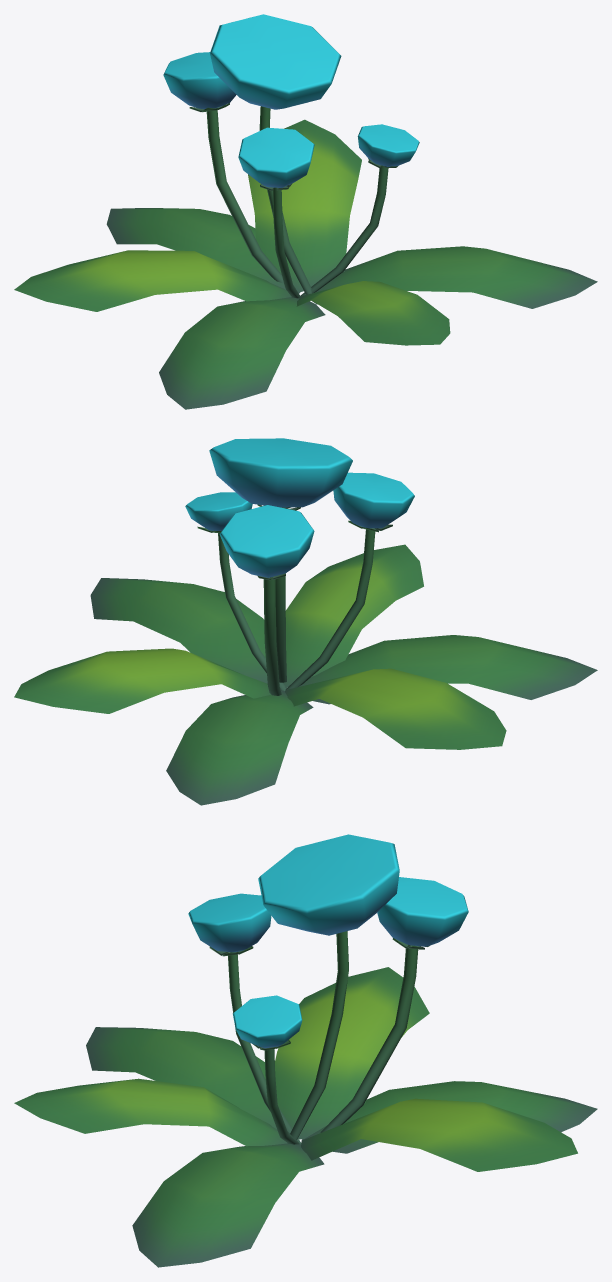
File: flower1.glb
The picture shows the model from 3 angles, top to bottom: view 1: azimuth 30°, elevation 25°; view 2: azimuth 150°, elevation 25°; view 3: azimuth 270°, elevation 25°; orthographic projection. The views are drawn at different scales.
Visible parts, largest first — view 1: Flower.001; view 2: Flower.001; view 3: Flower.001.
Boxes of the visible parts, x1,y1,x2,y2 form: Flower.001: (14,14,597,409); Flower.001: (14,438,597,805); Flower.001: (14,834,597,1267).
Bounding box in the file's own units: 3.81 × 1.94 × 3.58.
1 material, 1 textured.
